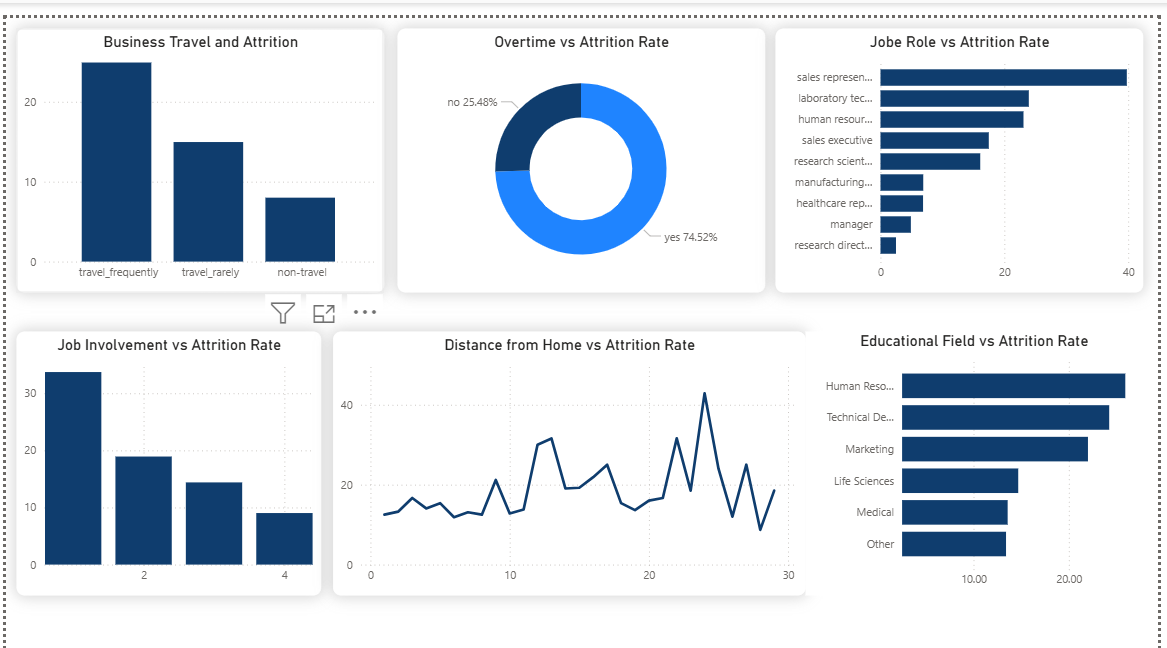

What the dashboard file says about the page in this screenshot:
{"tool":"powerbi","page":{"name":"Page 2","canvas":[1280,720],"ordinal":1},"visuals":[{"type":"columnChart","title":"Business Travel and Attrition","fields":{"Category":["business_travel.Business_Travel"],"Y":["Sum(business_travel.Attrition Rate)"]},"box":[11.7,11.7,408.3,293.3],"z":0},{"type":"donutChart","title":"Overtime vs Attrition Rate","fields":{"Category":["overtime.Over_Time"],"Y":["Avg(overtime.Attrition Rate)"]},"box":[435,11.7,408.3,293.3],"z":1},{"type":"clusteredBarChart","title":"Jobe Role vs Attrition Rate","fields":{"Category":["job_role.Job_Role"],"Y":["Avg(job_role.Attrition Rate)"]},"box":[855,11.7,408.3,293.3],"z":2},{"type":"columnChart","title":"Job Involvement vs Attrition Rate","fields":{"Category":["job_involvement.Job_Involvement"],"Y":["Avg(job_involvement.Attrition Rate)"]},"box":[11.7,348.3,338.3,293.3],"z":3},{"type":"lineChart","title":"Distance from Home vs Attrition Rate","fields":{"Category":["distance_from_home.Distance_From_Home"],"Y":["Avg(distance_from_home.Attrition Rate)"]},"box":[363.3,348.3,525,293.3],"z":4},{"type":"barChart","title":"Educational Field vs Attrition Rate","fields":{"Category":["edu_table.education_field"],"Y":["Avg(edu_table.Attrition Rate)"]},"box":[888.3,348.3,375,293.3],"z":5}]}

Visuals, with their boxes in screenshot pixels (x1, y1, x2, y2), scaled from the page's 1280x720 canvas onto the 1167x648 screenshot:
"Business Travel and Attrition" columnChart: Rect(11, 11, 383, 274)
"Overtime vs Attrition Rate" donutChart: Rect(397, 11, 769, 274)
"Jobe Role vs Attrition Rate" clusteredBarChart: Rect(780, 11, 1152, 274)
"Job Involvement vs Attrition Rate" columnChart: Rect(11, 313, 319, 577)
"Distance from Home vs Attrition Rate" lineChart: Rect(331, 313, 810, 577)
"Educational Field vs Attrition Rate" barChart: Rect(810, 313, 1152, 577)
